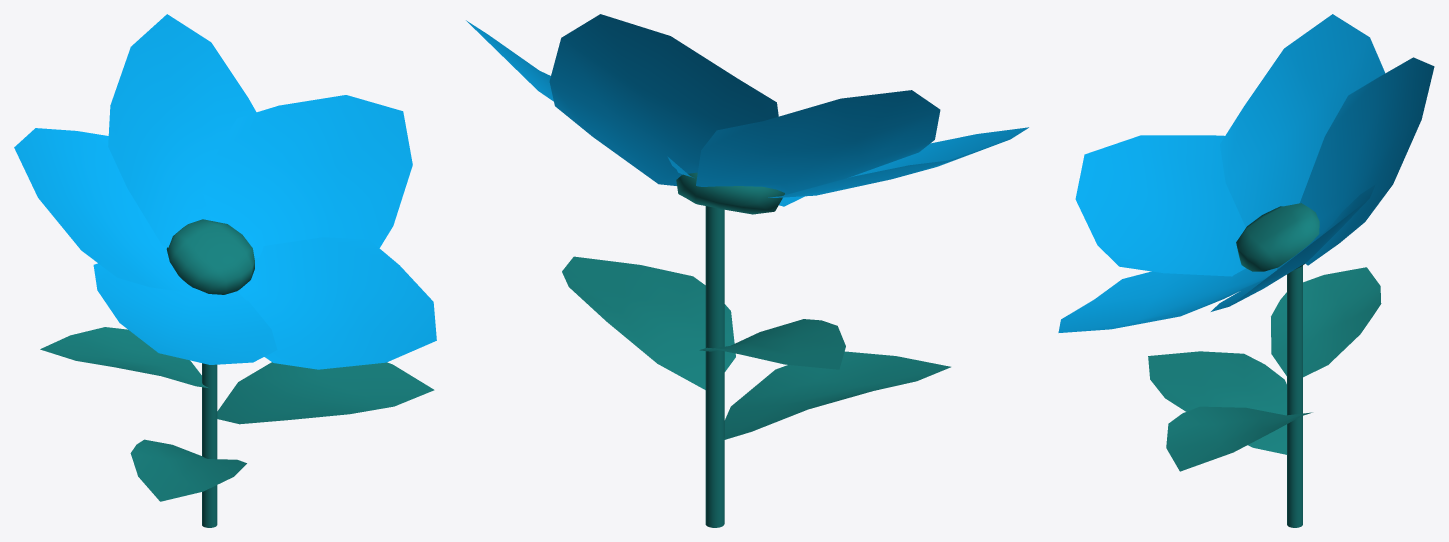
The model's file is hana_kari_01.fbx.
3 renders of one model, left to right at view 1: azimuth 30°, elevation 25°; view 2: azimuth 150°, elevation 25°; view 3: azimuth 270°, elevation 25°, orthographic. The views are drawn at different scales.
Parts seen in each view (by area): view 1: hana_hanabira, hana_kuki, hana_kazui; view 2: hana_hanabira, hana_kuki, hana_kazui; view 3: hana_hanabira, hana_kuki, hana_kazui.
Boxes of the visible parts, x1,y1,x2,y2 form: hana_hanabira: (14, 14, 436, 369); hana_kuki: (40, 327, 434, 527); hana_kazui: (166, 219, 254, 294); hana_hanabira: (466, 14, 1028, 206); hana_kuki: (562, 206, 950, 527); hana_kazui: (676, 172, 784, 214); hana_hanabira: (1058, 14, 1434, 332); hana_kuki: (1148, 265, 1381, 527); hana_kazui: (1236, 203, 1319, 271).
Size of the model in its own units: 18.23 by 21.14 by 15.31.
